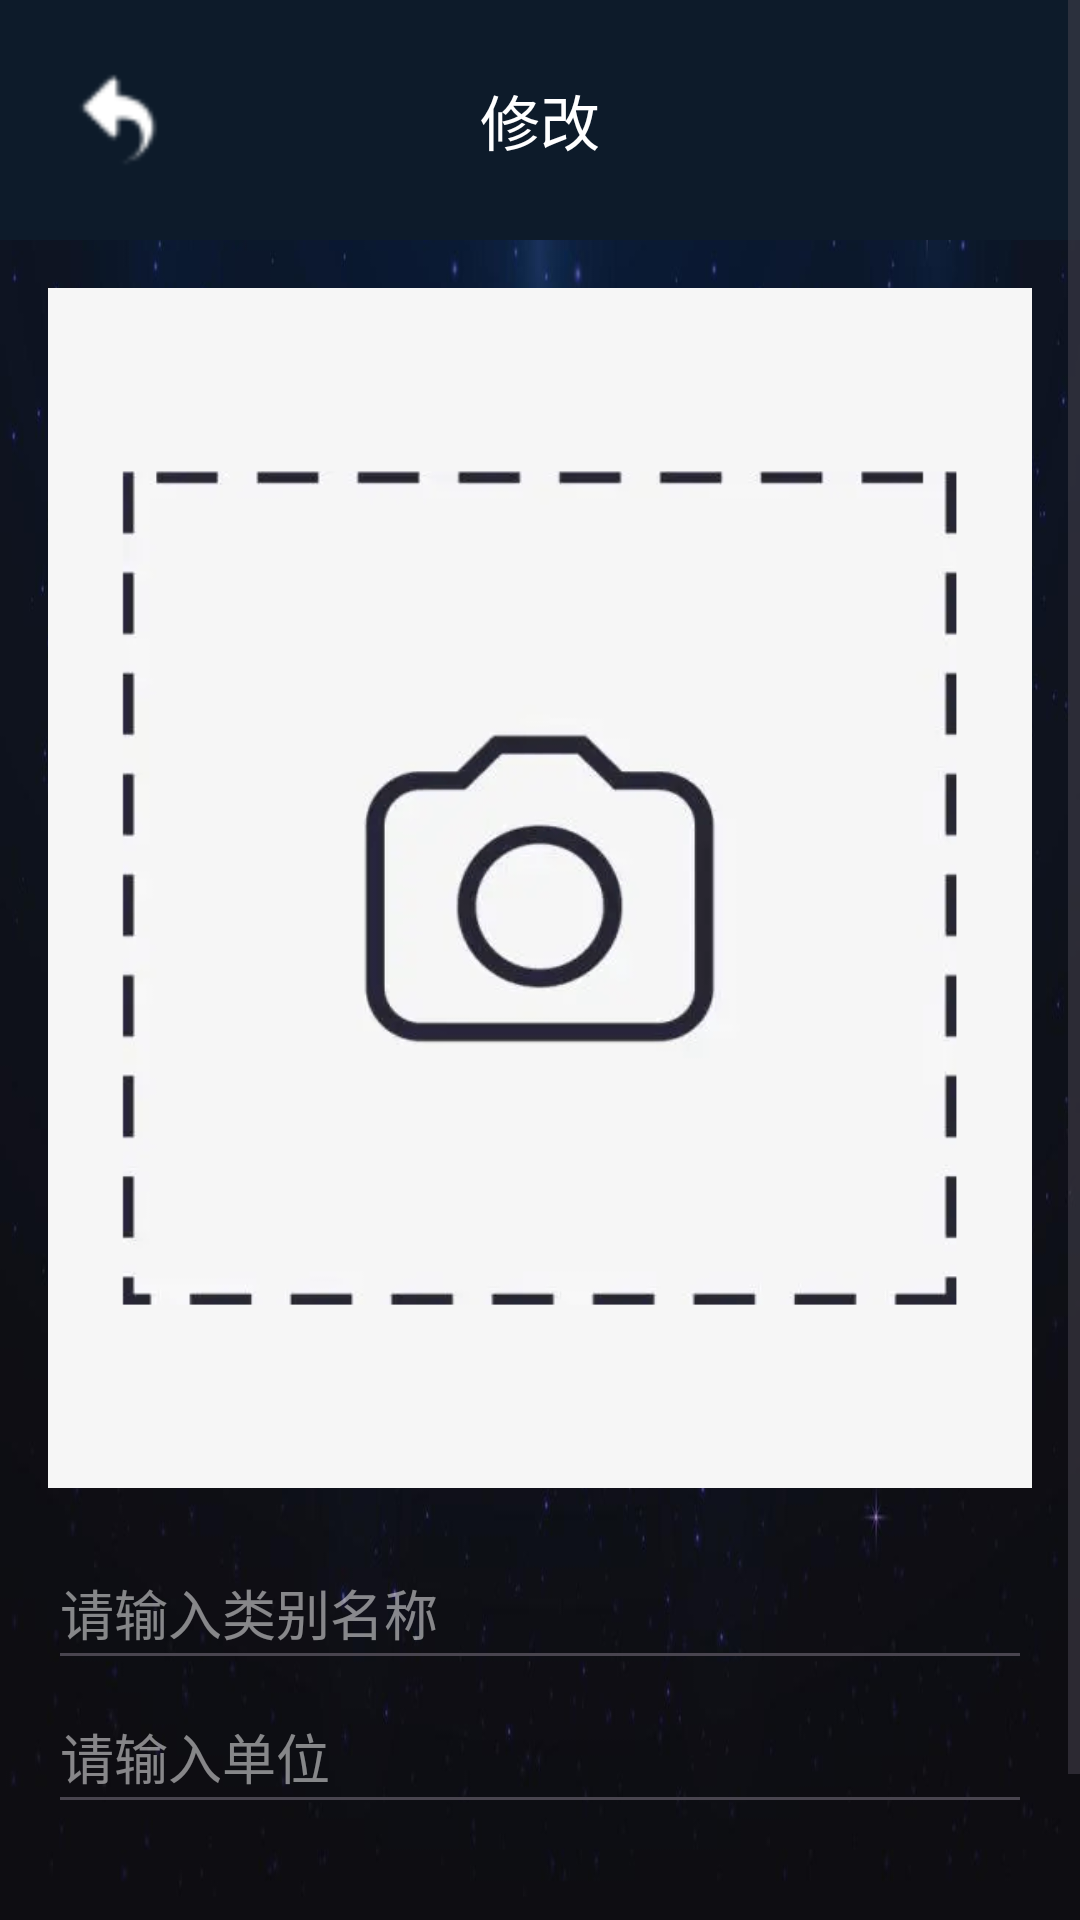

Icons on this 1080*1920 Android screen, each with the point to tap as (x=x, y=y):
返回: (x=119, y=117)
